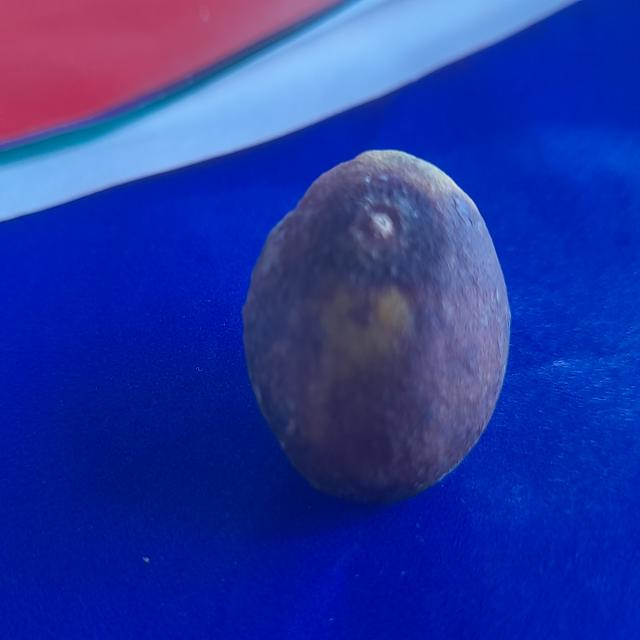black spot: (239, 140, 505, 509)
